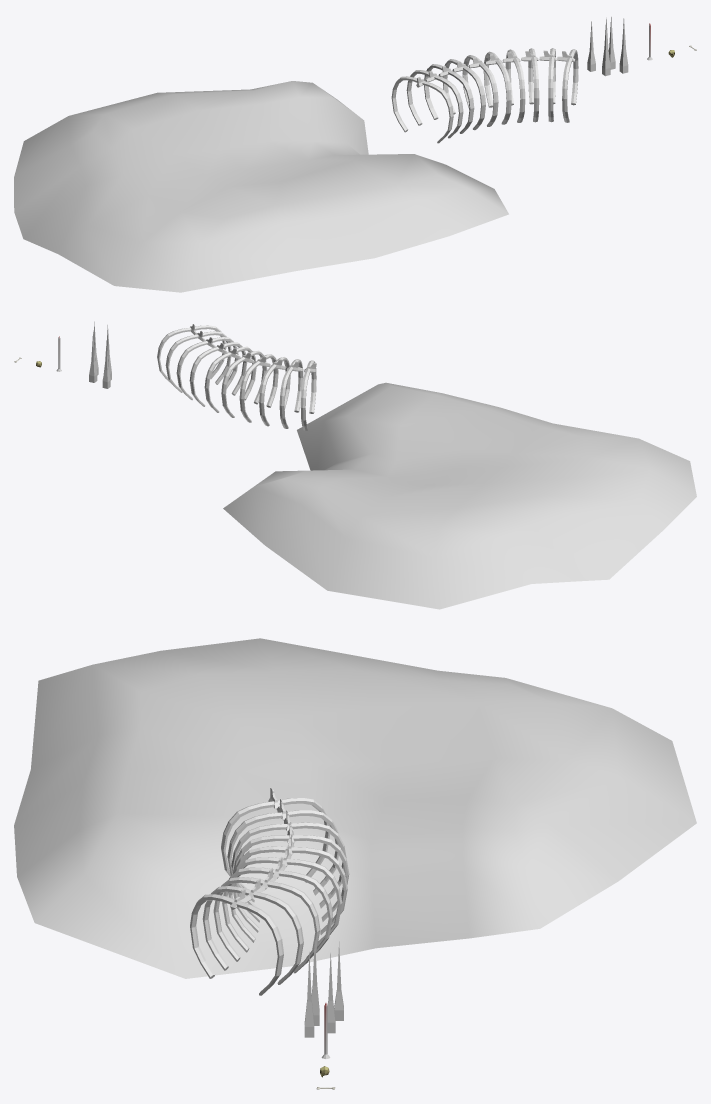
The model's file is Castelo.fbx.
The picture shows the model from 3 angles, top to bottom: view 1: azimuth 30°, elevation 25°; view 2: azimuth 150°, elevation 25°; view 3: azimuth 270°, elevation 25°; orthographic projection. The views are drawn at different scales.
Parts seen in each view (by area): view 1: Lava_Ilha, EsqueleGrande, Espinhos; view 2: Lava_Ilha, EsqueleGrande, Espinhos; view 3: Lava_Ilha, EsqueleGrande, Espinhos.
Boxes of the visible parts, <box> form: Lava_Ilha: <box>14,81,508,292</box>; EsqueleGrande: <box>391,48,578,143</box>; Espinhos: <box>587,17,628,76</box>; Lava_Ilha: <box>223,382,696,609</box>; EsqueleGrande: <box>157,324,316,430</box>; Espinhos: <box>89,321,111,388</box>; Lava_Ilha: <box>14,638,696,978</box>; EsqueleGrande: <box>190,787,349,995</box>; Espinhos: <box>304,937,343,1037</box>.
Size of the model in its own units: 1525 by 272 by 907.
